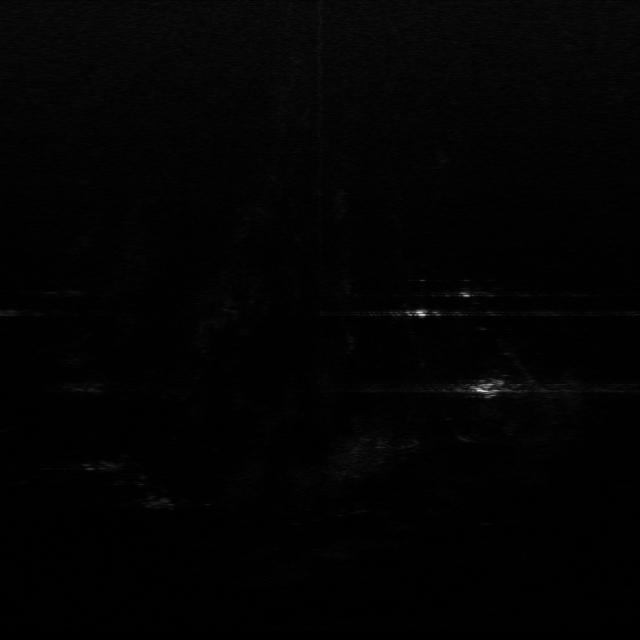rov: (470, 377, 510, 399)
